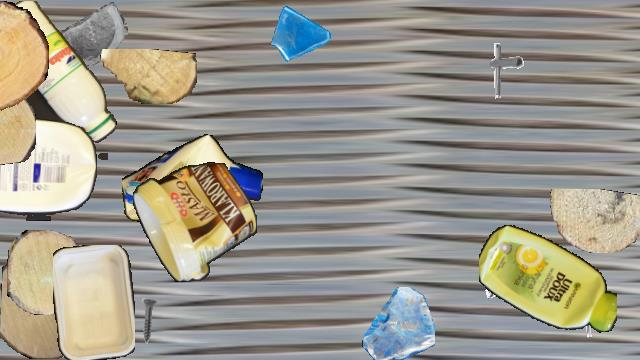glass: (362, 287, 434, 359), (56, 1, 128, 73), (269, 1, 333, 65)
metal: (472, 40, 532, 100), (66, 247, 126, 307), (124, 297, 172, 345), (479, 255, 525, 301), (571, 301, 615, 345), (629, 2, 640, 44)
plastic: (0, 1, 118, 159), (479, 221, 617, 337), (132, 162, 256, 282), (122, 133, 262, 229), (0, 118, 96, 222), (53, 245, 135, 359)
wood: (1, 247, 89, 359), (7, 230, 87, 314), (547, 189, 640, 253), (0, 1, 48, 113), (99, 49, 197, 103), (0, 84, 36, 164)
